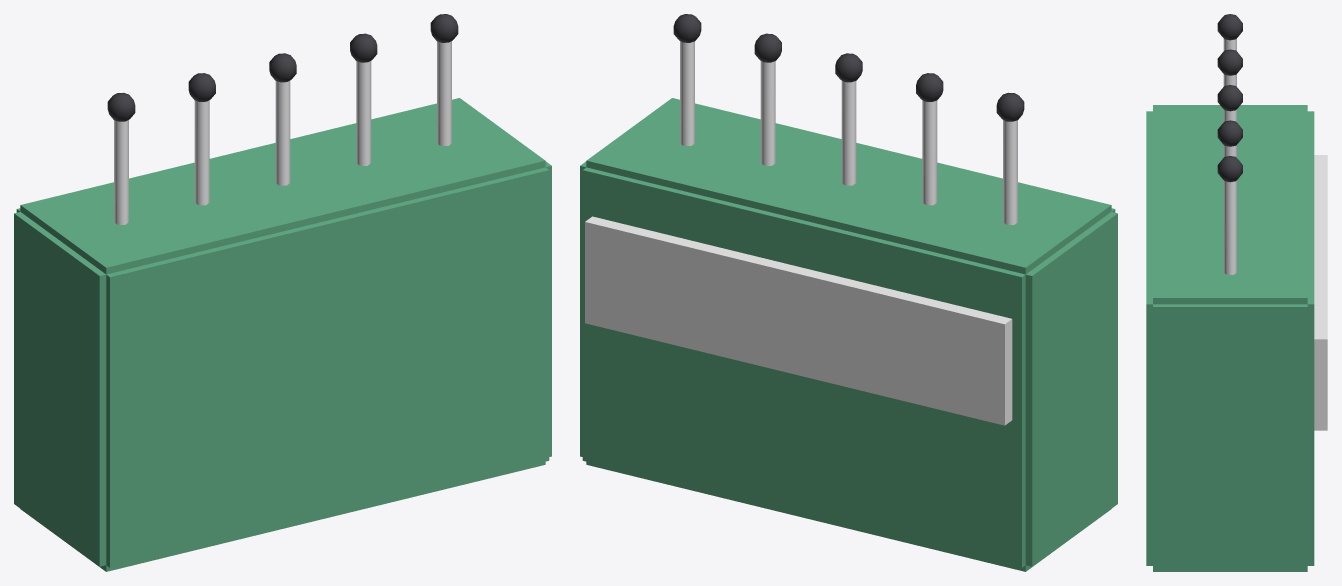
File: sprinkler_display.glb
3 views of the same model, side by side, from view 1: azimuth 30°, elevation 25°; view 2: azimuth 150°, elevation 25°; view 3: azimuth 270°, elevation 25° (orthographic). The views are drawn at different scales.
Visible parts, largest first — view 1: sprinkler_display; view 2: sprinkler_display; view 3: sprinkler_display.
Boxes of the visible parts, <box> form: sprinkler_display: <box>14,14,551,571</box>; sprinkler_display: <box>580,14,1117,571</box>; sprinkler_display: <box>1146,14,1327,571</box>.
Bounding box in the file's own units: 1.4 × 1.28 × 0.54.
